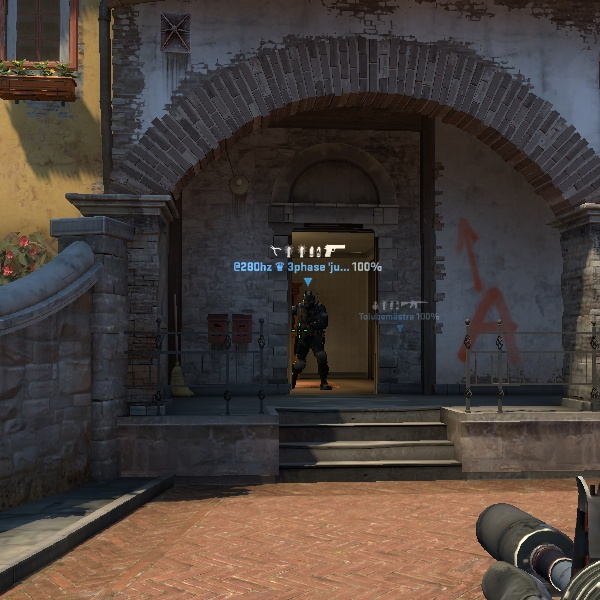ct_body: (286, 285, 344, 396)
